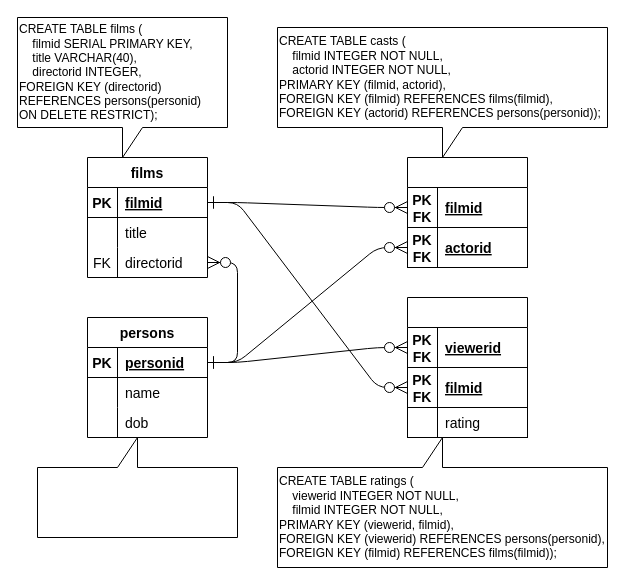
This 625x585 diagram has some shape labels left out. The shapes that lost their labels are listed below. From the top down, each one's box as (x1, y1, x2, y2) in pixels, then its label:
(406, 156, 528, 268): casts
(406, 296, 528, 438): ratings
(36, 436, 238, 538): CREATE TABLE persons ( personid SERIAL PRIMARY KEY, name VARCHAR(40), dob DATE);
